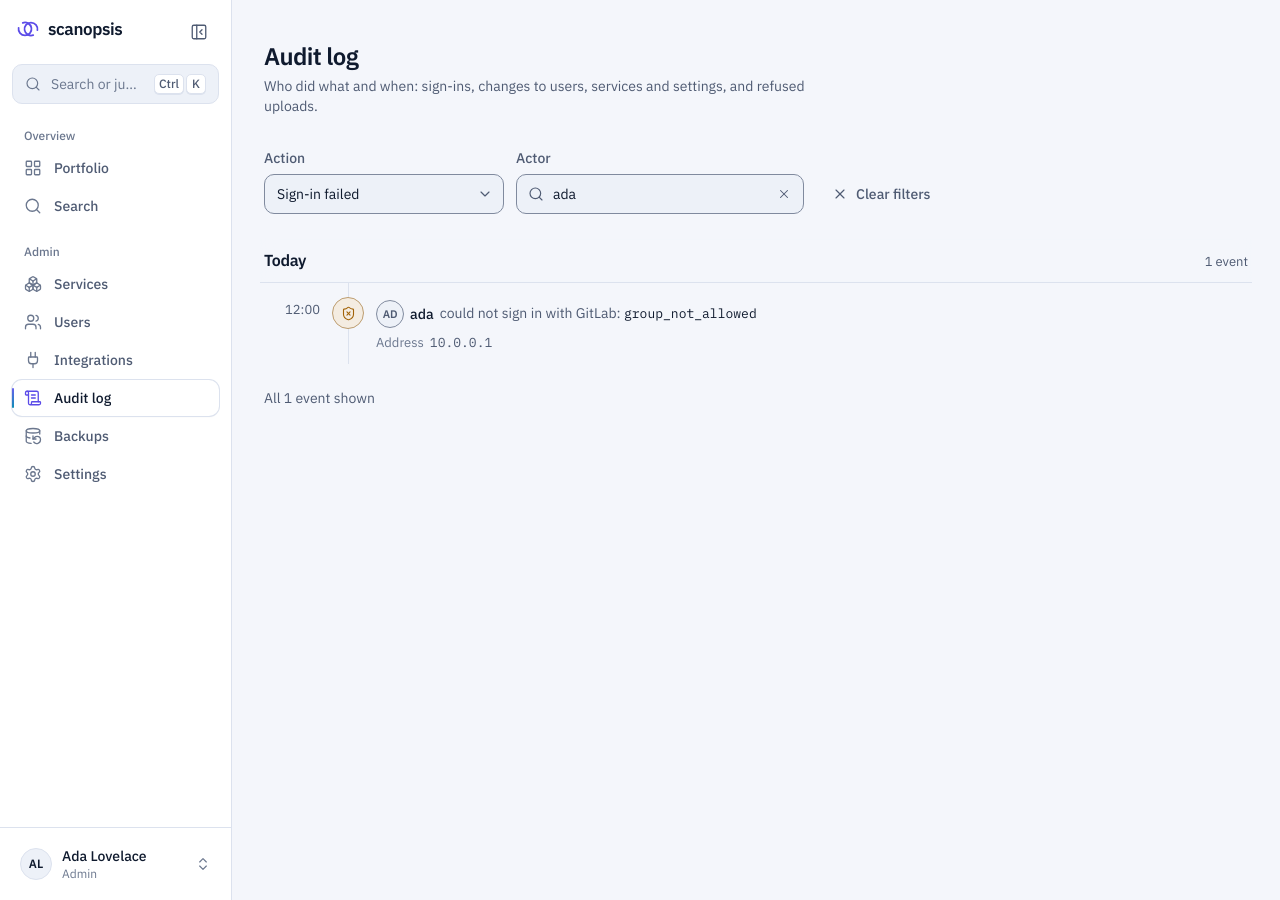
Test: audit page › reads filters from the URL, sends them, writes changes back and clears them
Expected: the element that starts with "Today" is shown, [264,238,1248,364]
Expected: the search field labelled "Actor" holds "ada", [516,174,804,214]
Press Enter in the dropdown named "Action", box [264,174,504,214]
(page scrolled)
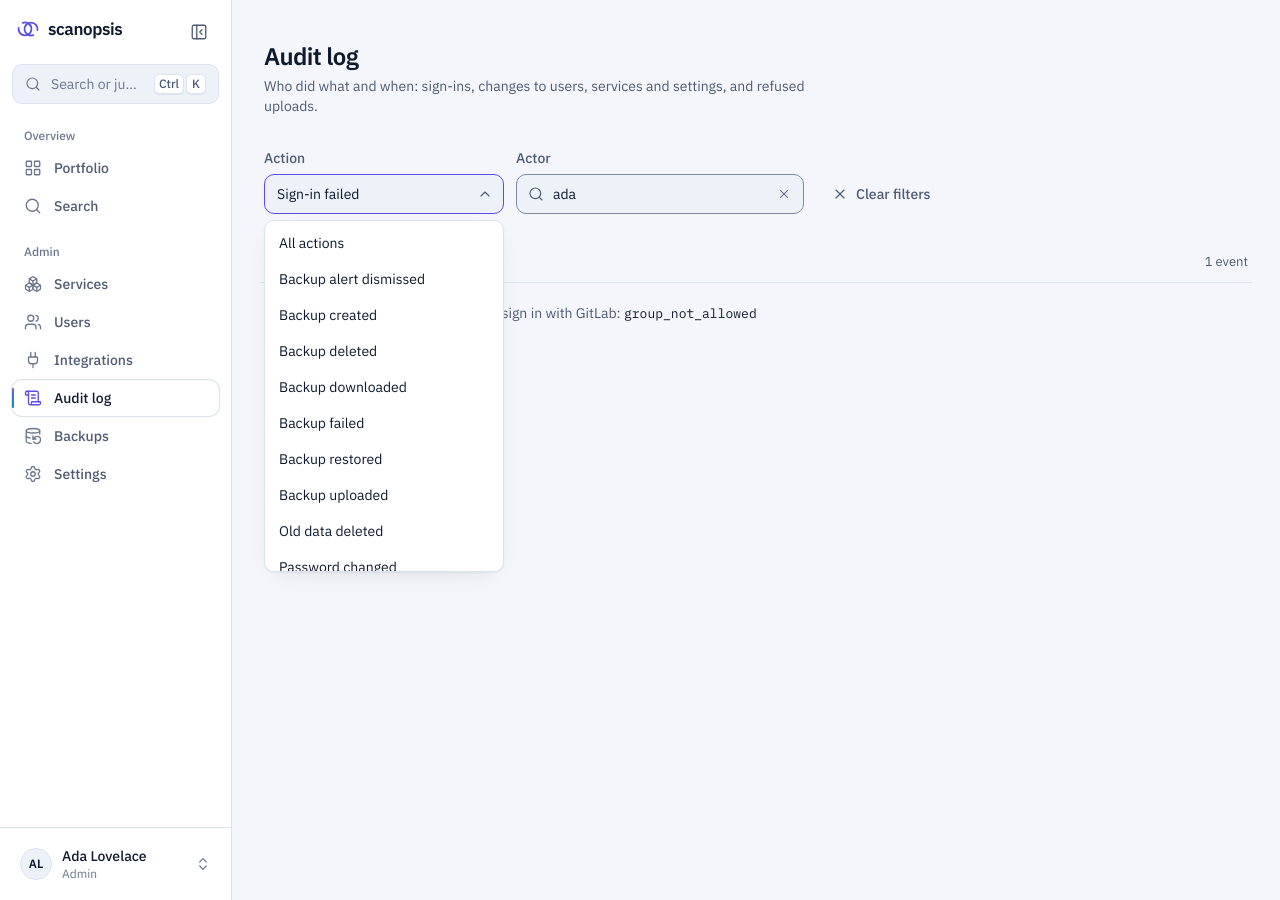
Click the option "All actions".
click(312, 243)  # box [279,234,344,252]
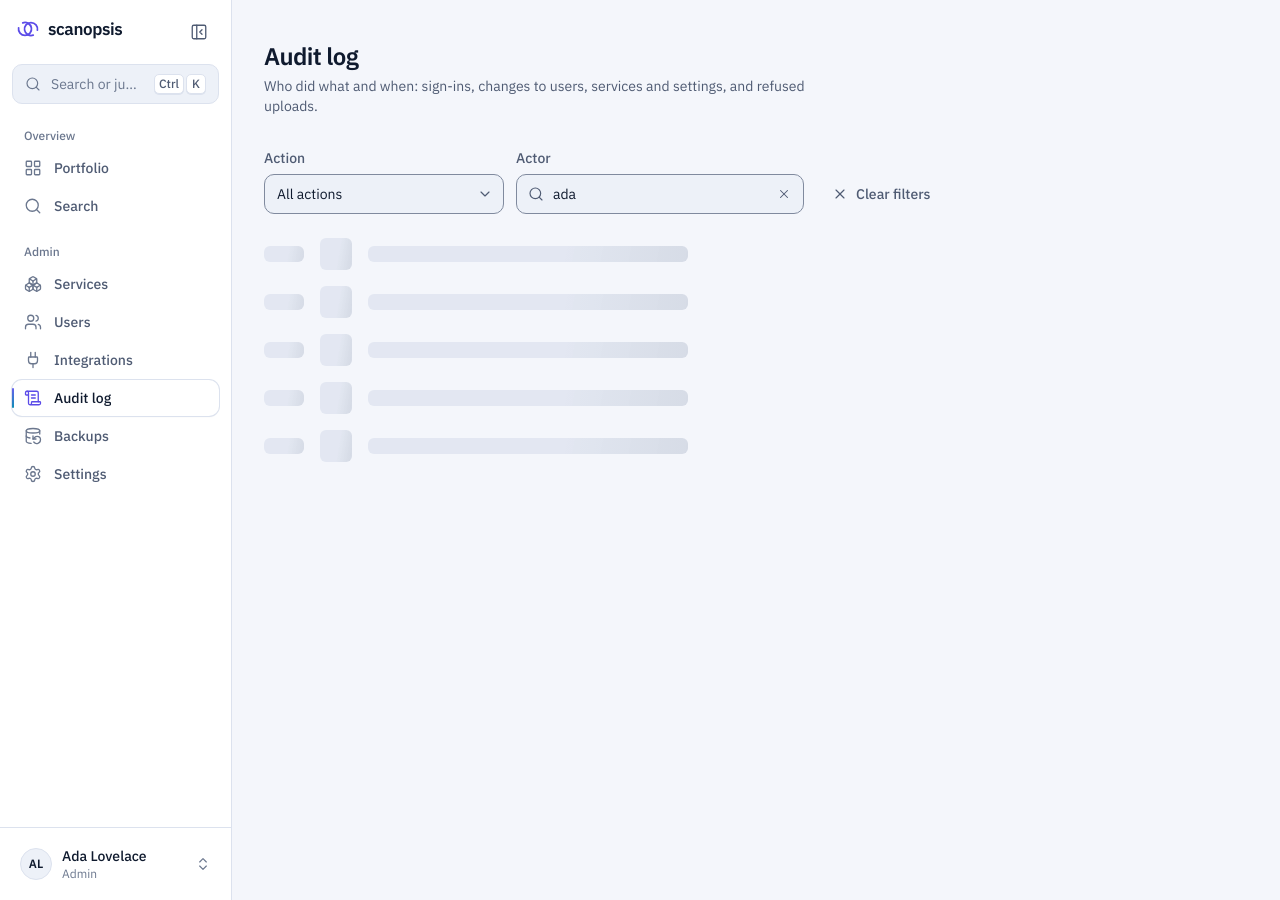
Replace the text in the search field labelled "Actor" with "grace" at [660, 194], box [516,174,804,214]
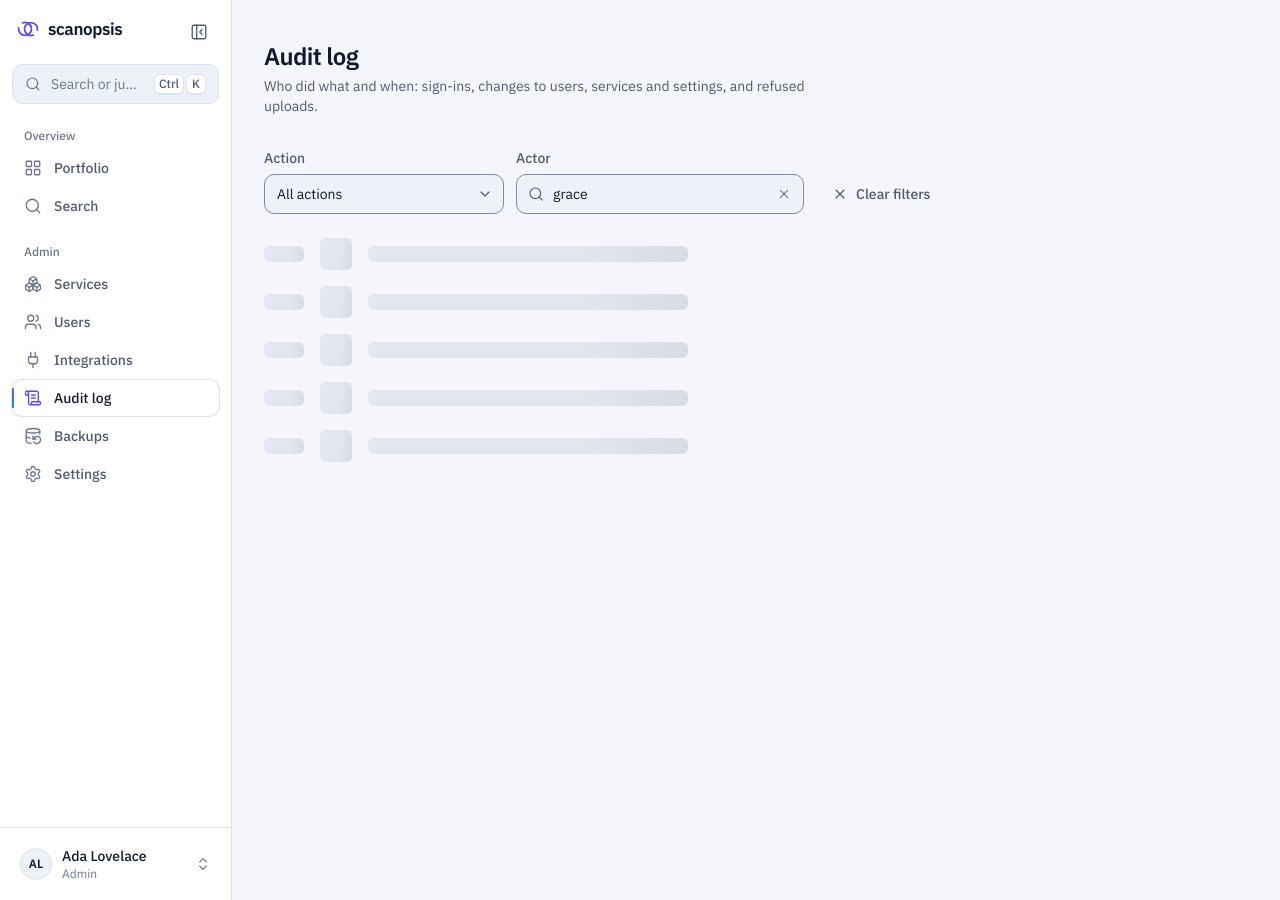
Press Enter in the search field labelled "Actor", box [516,174,804,214]
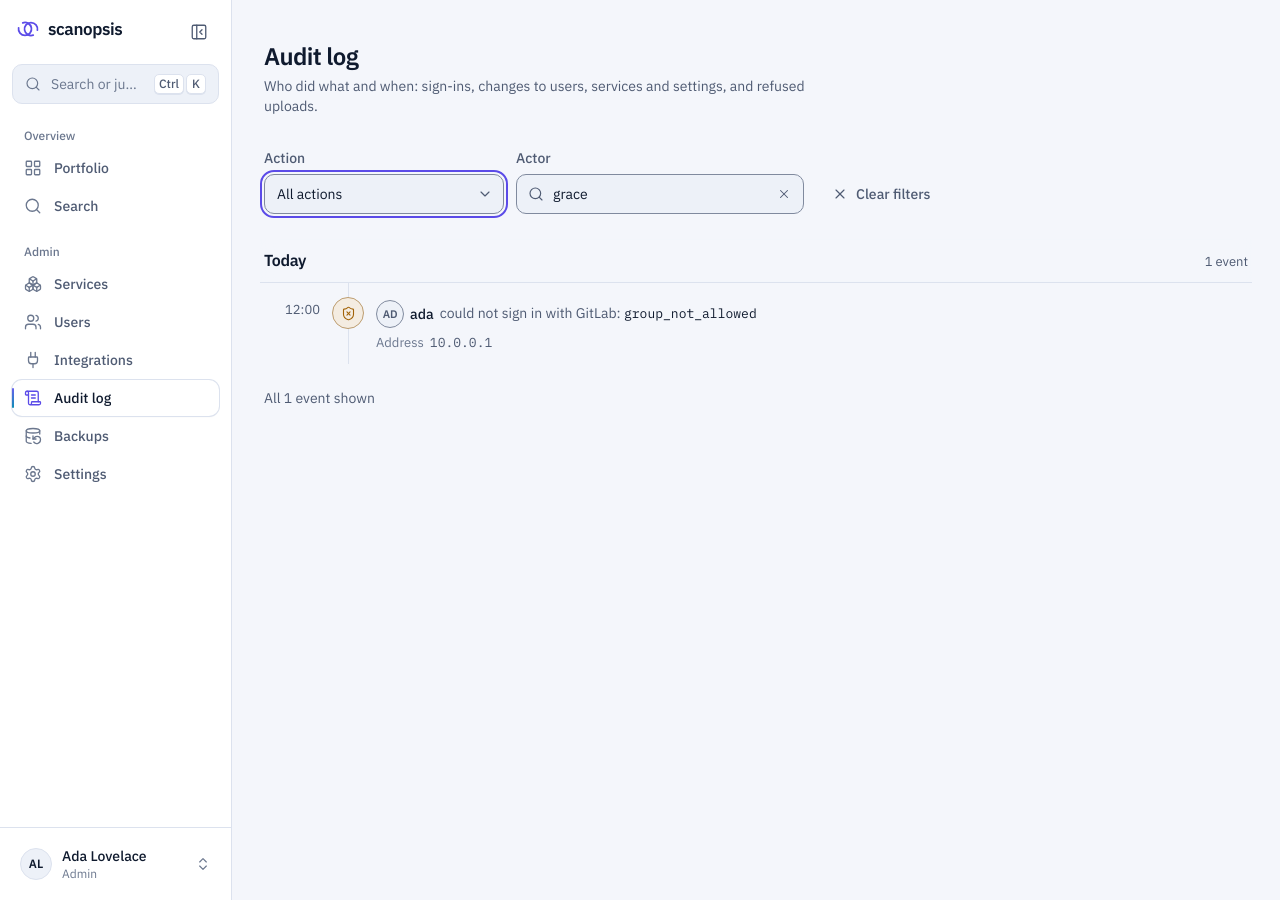
Click the button "Clear filters".
click(881, 194)  # box [816,174,946,214]
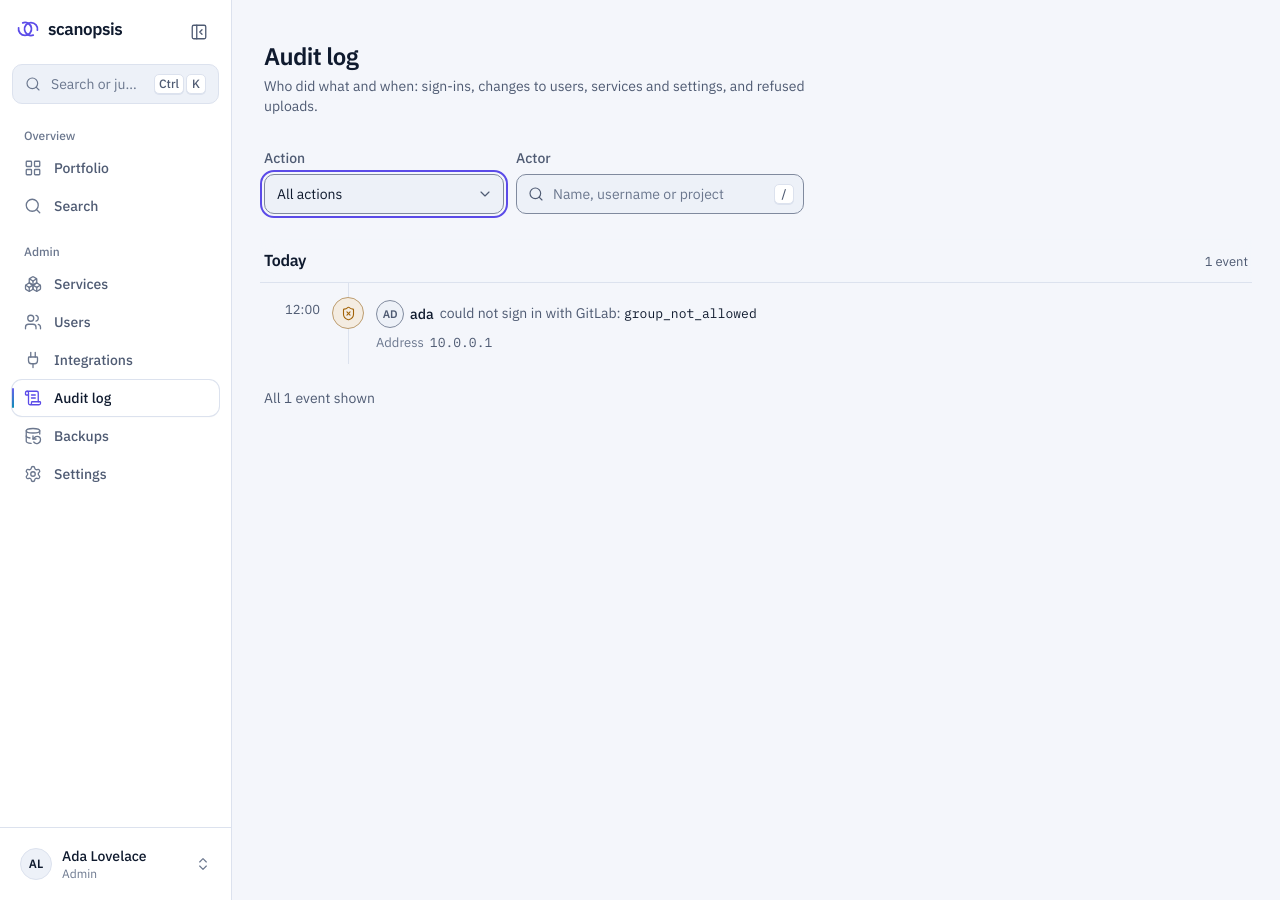
Now the button "Clear filters" is gone
Now the search field labelled "Actor" is empty, box [516,174,804,214]
